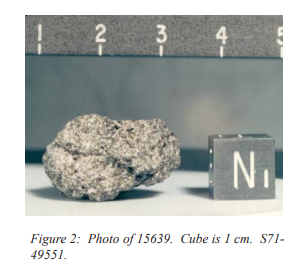Basalt: (19, 86, 190, 200)
